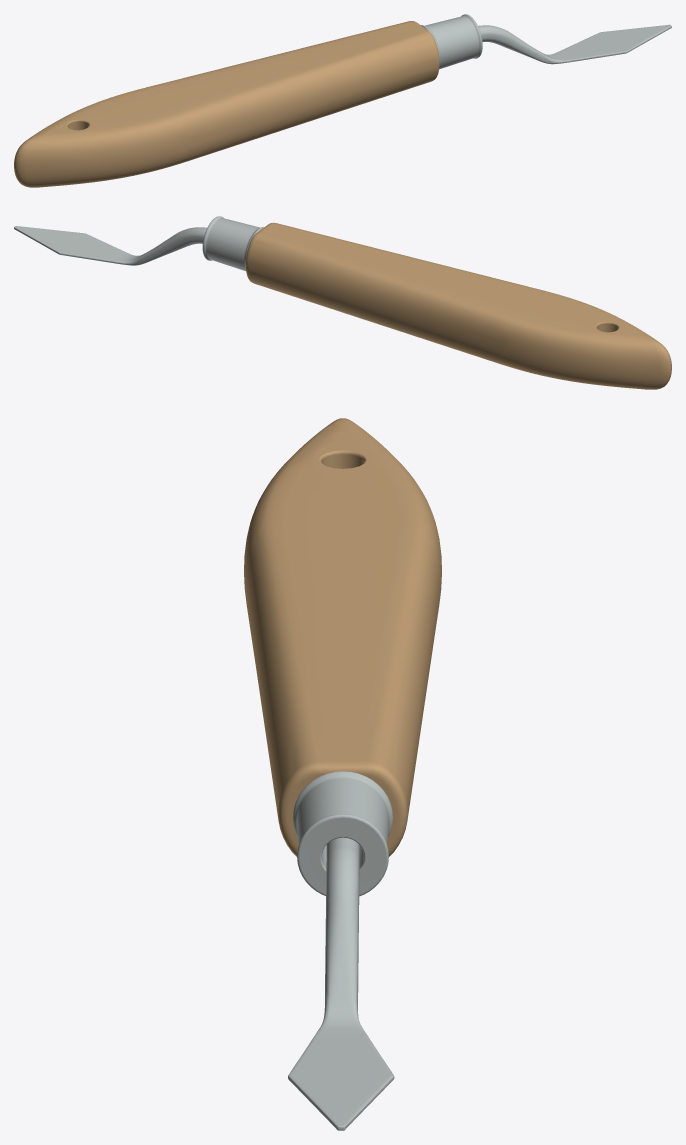
The model's file is paint_supplies_palletknife_a01.glb.
3 renders of one model, top to bottom at view 1: azimuth 30°, elevation 25°; view 2: azimuth 150°, elevation 25°; view 3: azimuth 270°, elevation 25°, orthographic. The views are drawn at different scales.
Size of the model in its own units: 0.1415 by 0.0138 by 0.0185.
